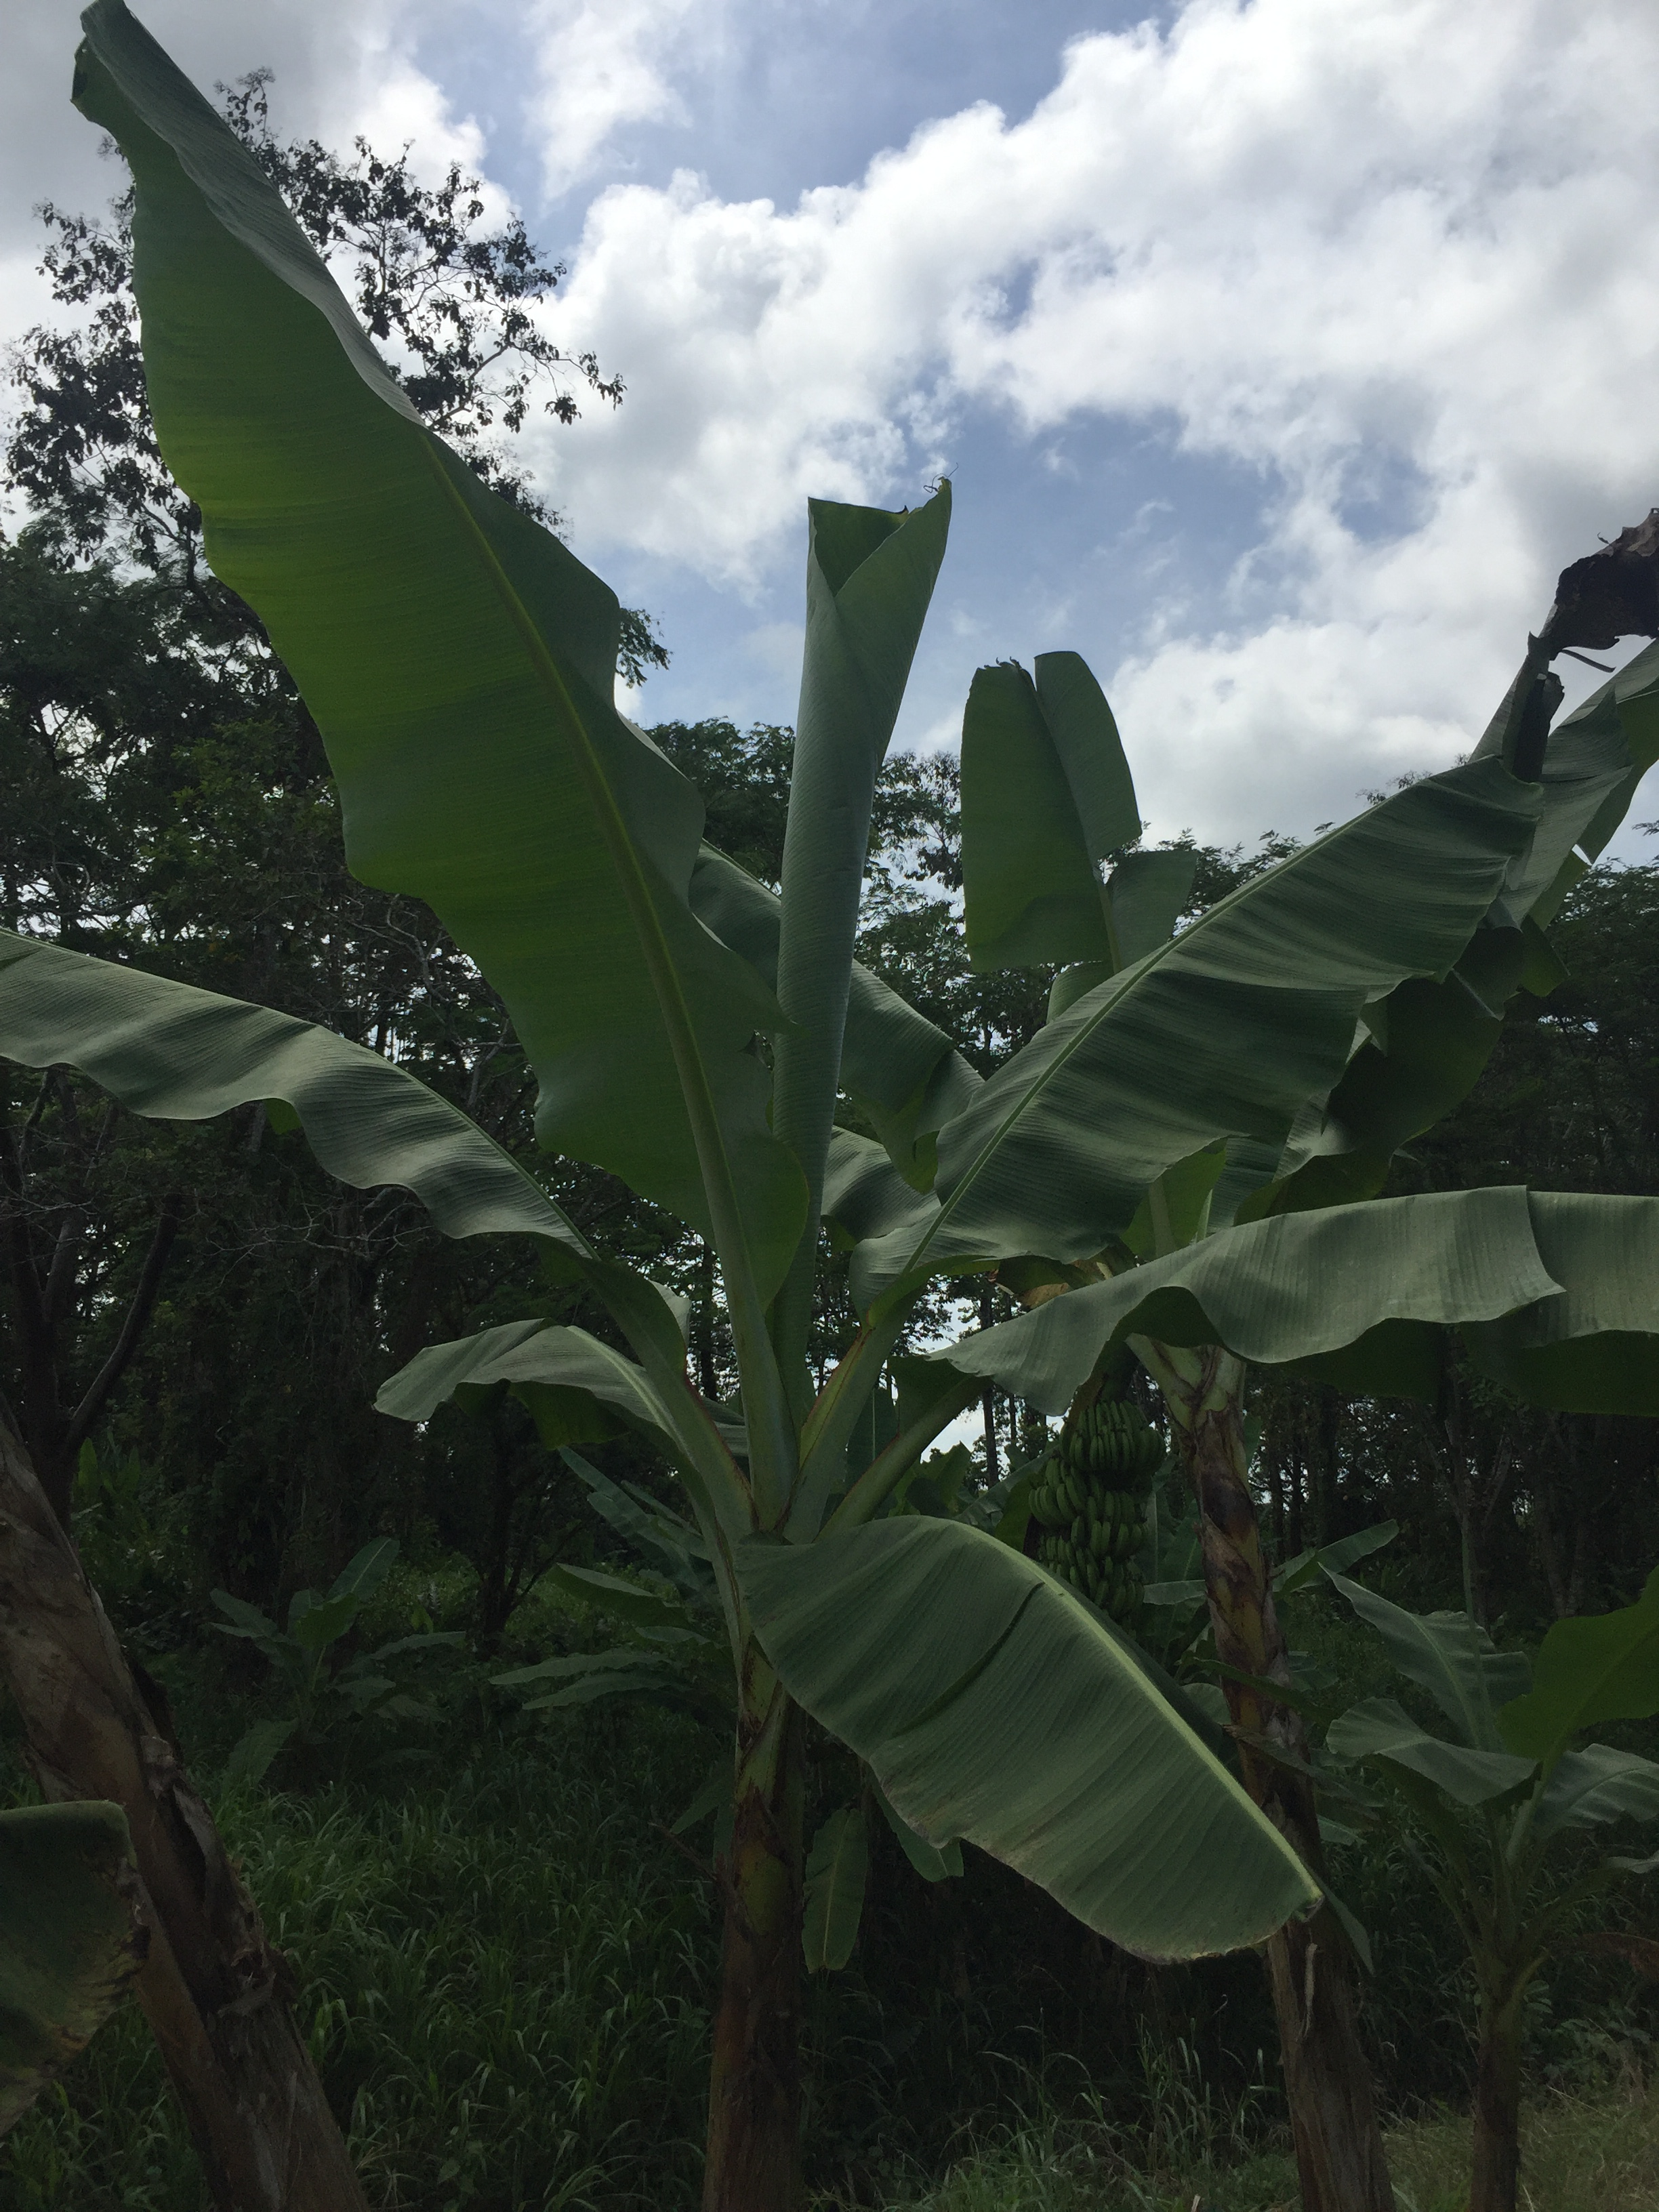candleleafs: (770, 470, 951, 1357)
